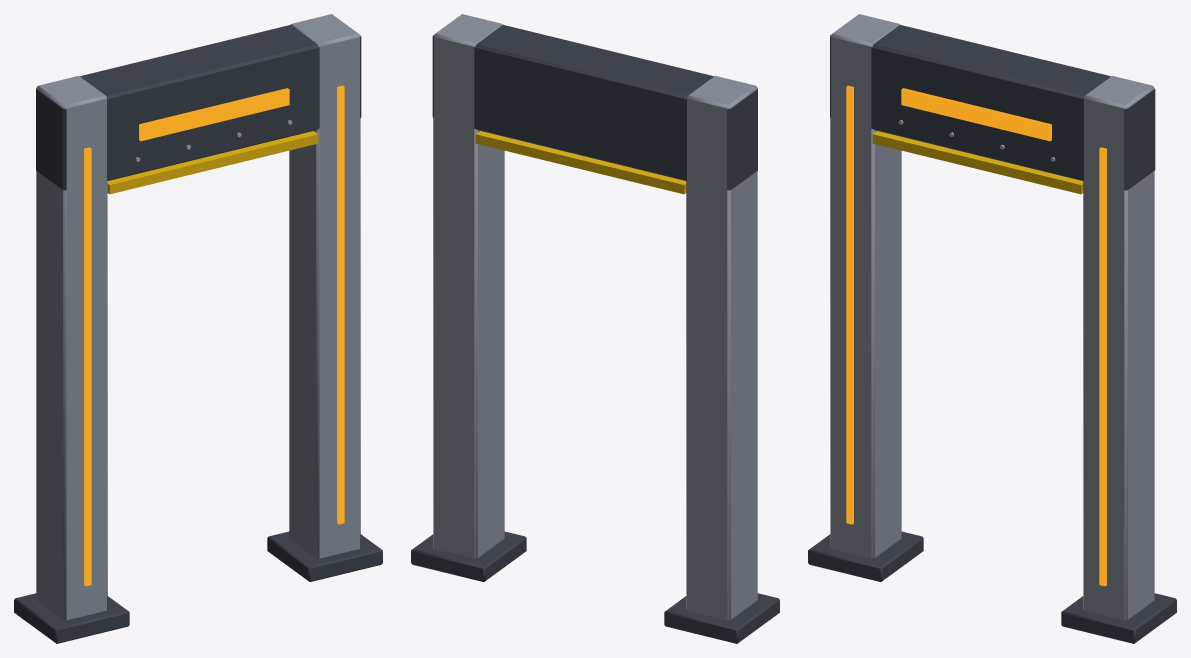
File: pillar_bulkhead_frame.glb
3 views of the same model, side by side, from view 1: azimuth 30°, elevation 25°; view 2: azimuth 150°, elevation 25°; view 3: azimuth 330°, elevation 25° (orthographic).
Parts seen in each view (by area): view 1: pillar_bulkhead_frame; view 2: pillar_bulkhead_frame; view 3: pillar_bulkhead_frame.
Boxes of the visible parts, x1=… form: pillar_bulkhead_frame: x1=14, y1=14, x2=382, y2=643; pillar_bulkhead_frame: x1=411, y1=14, x2=779, y2=643; pillar_bulkhead_frame: x1=808, y1=14, x2=1176, y2=643.
Bounding box in the file's own units: 2.2 × 3.4 × 0.5.
